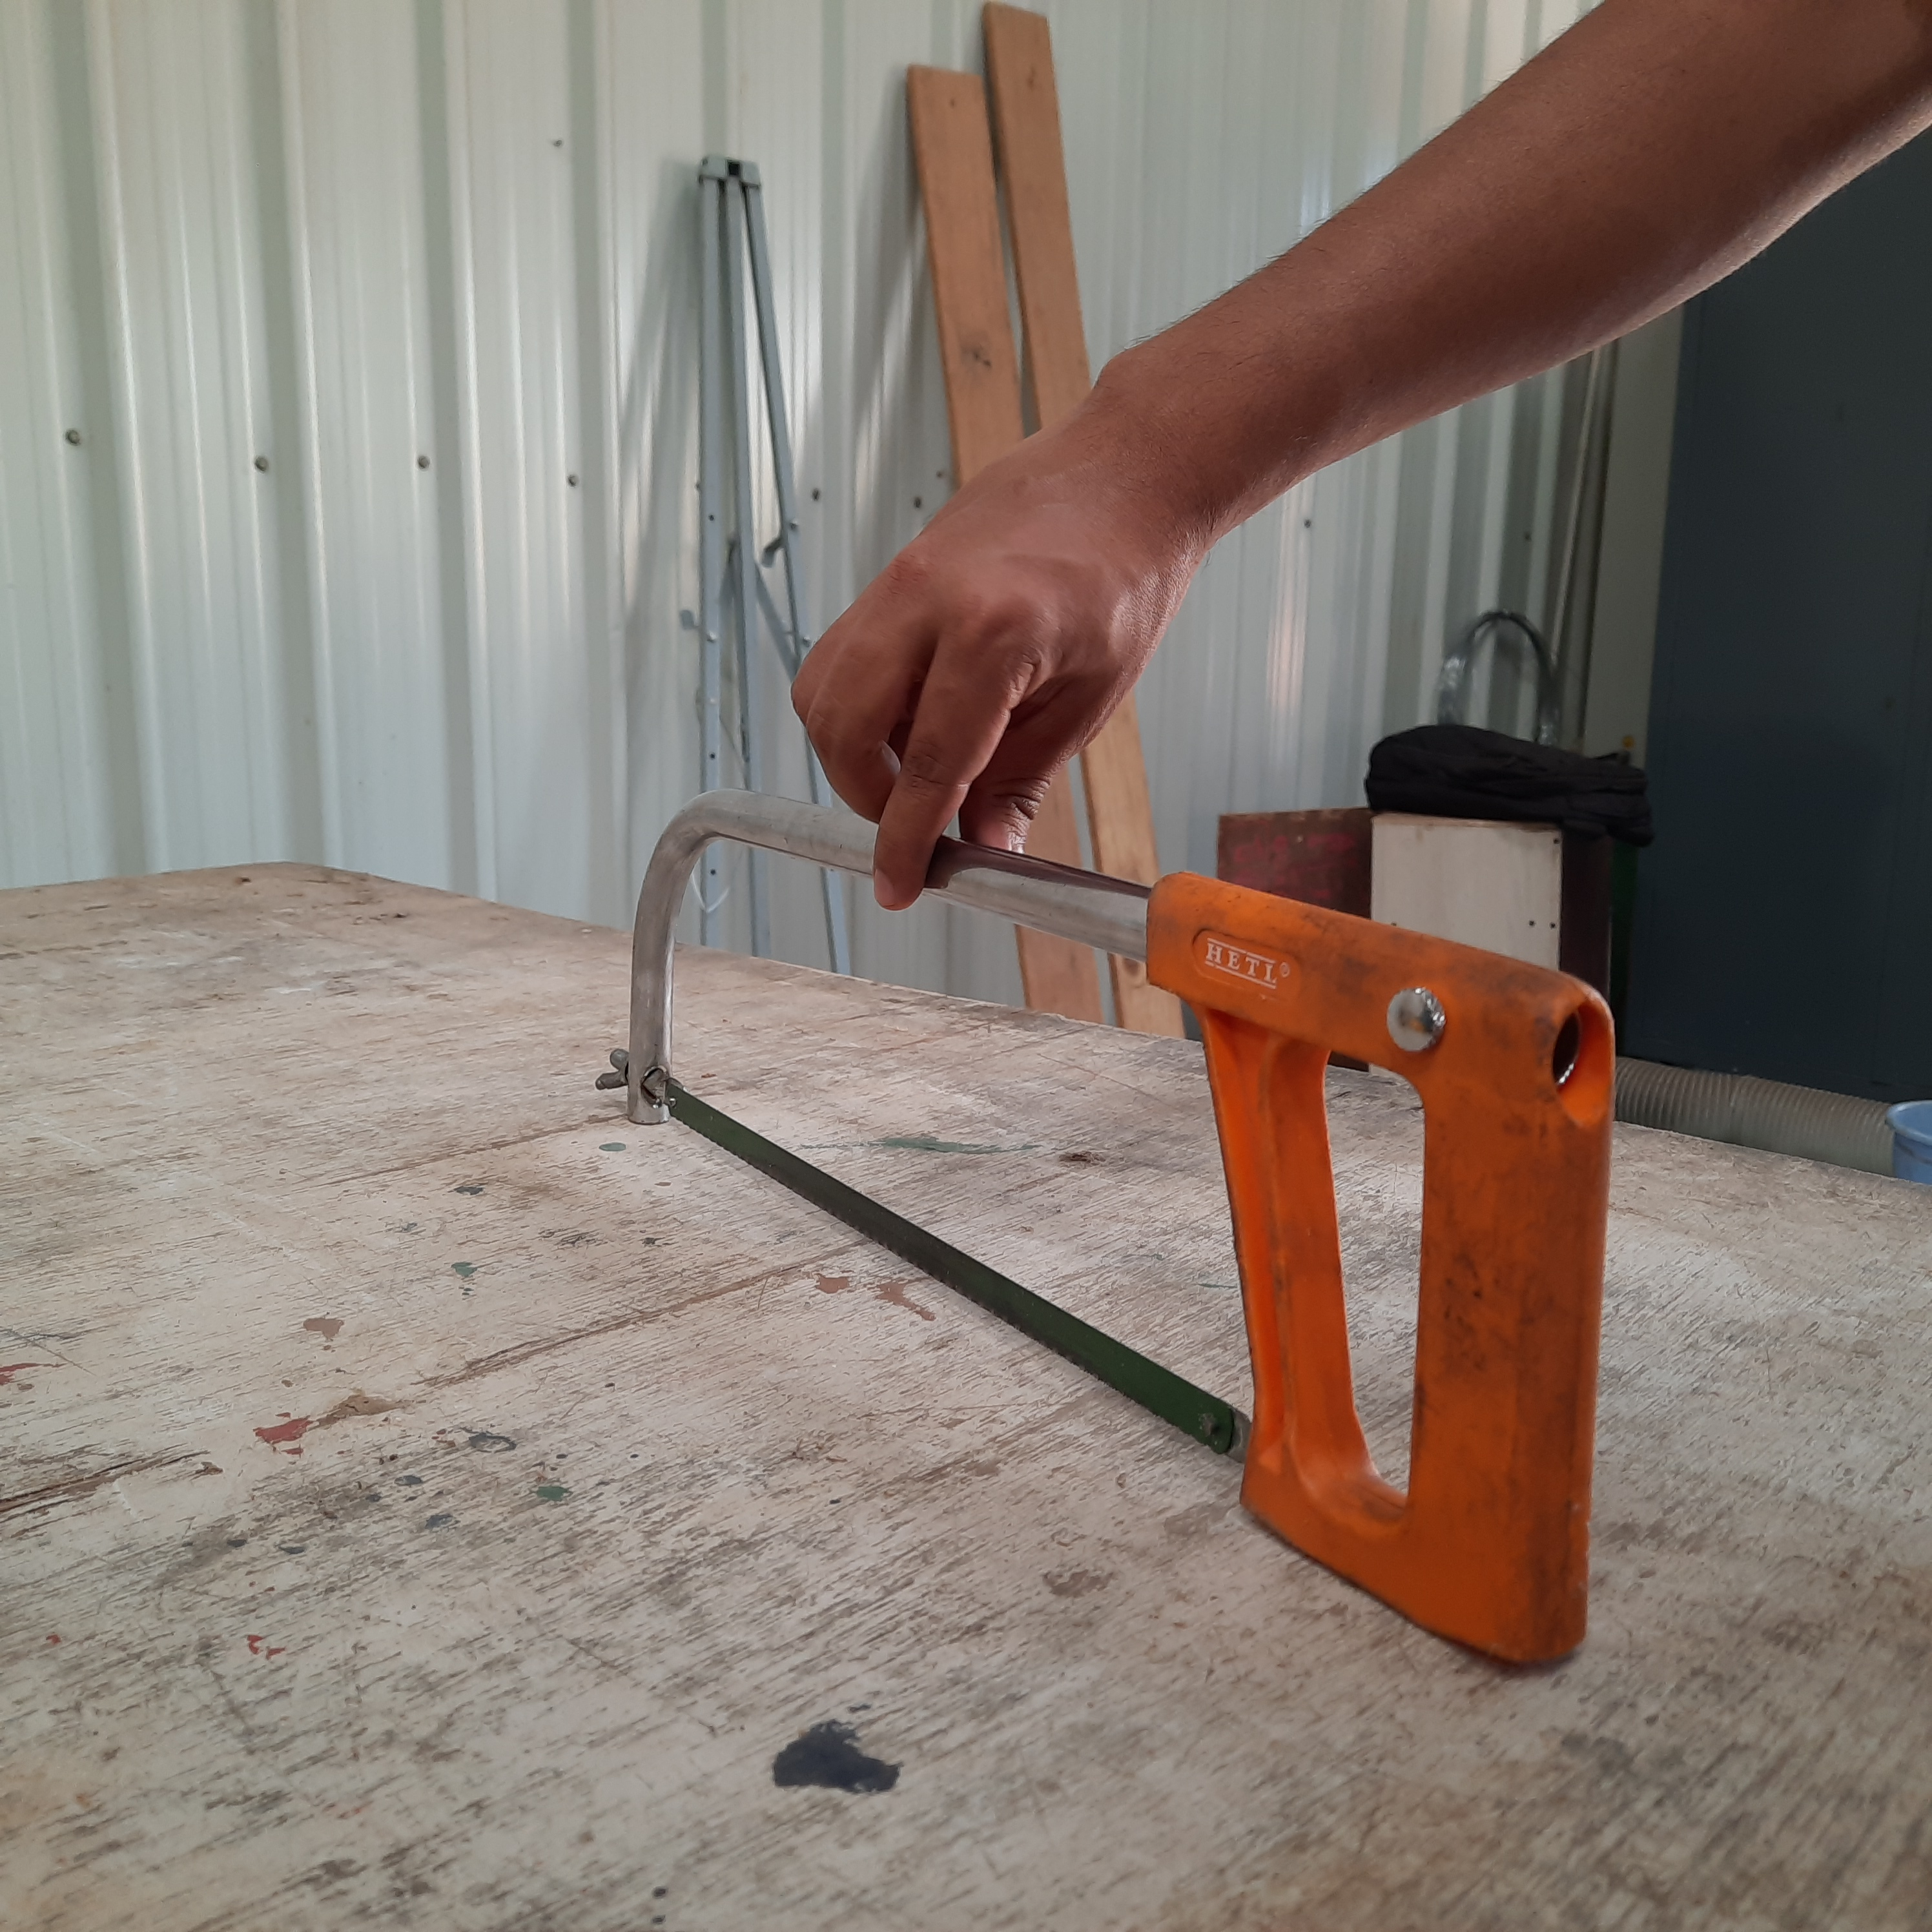Hexaframe: (605, 784, 1617, 1691)
